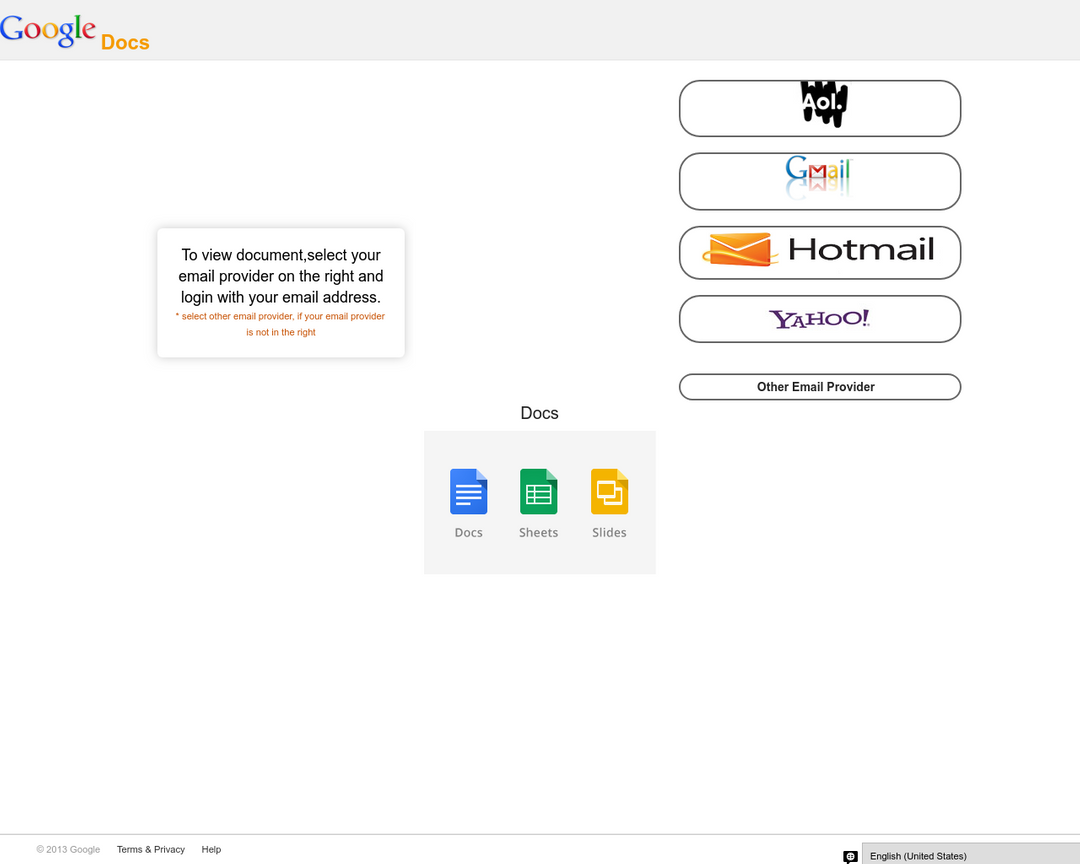Google: (416, 154, 659, 243)
